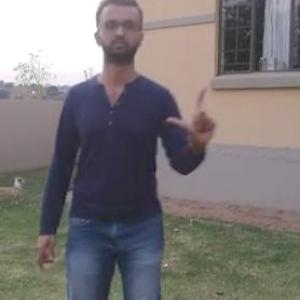land_hand: (163, 80, 221, 144)
